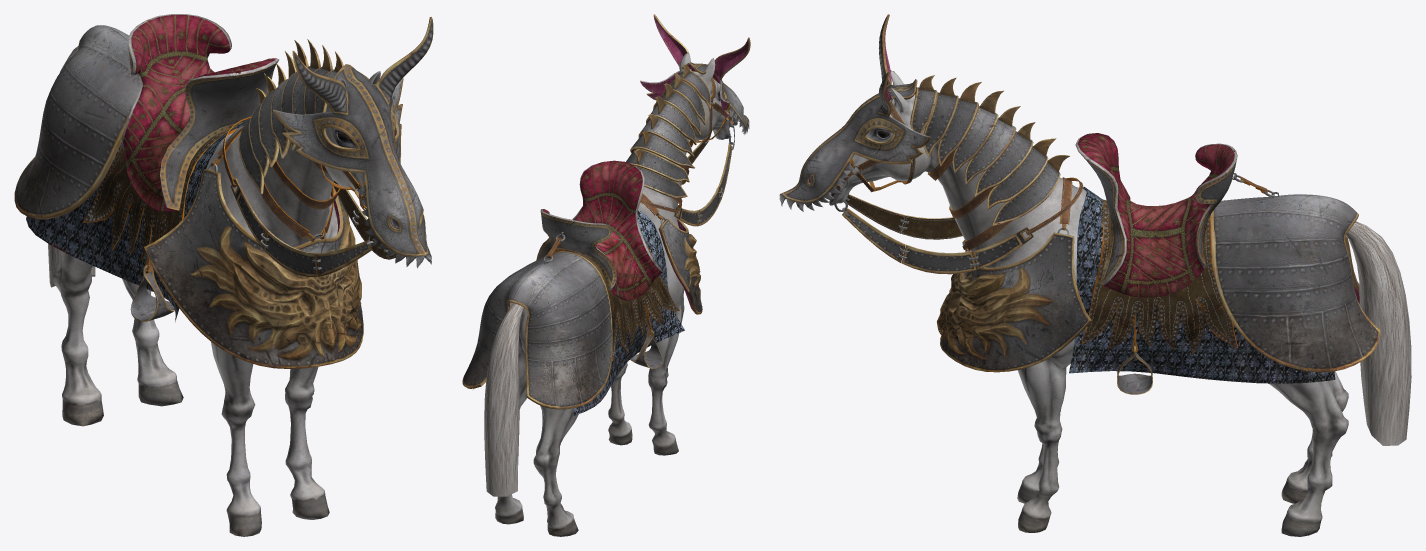
Rendered from KnightHorse.fbx.
3 renders of one model, left to right at view 1: azimuth 30°, elevation 25°; view 2: azimuth 150°, elevation 25°; view 3: azimuth 270°, elevation 25°, orthographic. The views are drawn at different scales.
Visible parts, largest first — view 1: Armor, Horse, Tail; view 2: Armor, Horse, Tail; view 3: Armor, Horse, Tail.
Part boxes in pixels (x1,y1,x2,y2): Armor: [14, 14, 433, 368]; Horse: [52, 71, 399, 536]; Tail: [48, 46, 95, 287]; Armor: [462, 14, 750, 415]; Horse: [495, 53, 737, 536]; Tail: [484, 303, 524, 496]; Armor: [779, 14, 1380, 394]; Horse: [810, 70, 1348, 536]; Tail: [1346, 221, 1411, 445].
Size of the model in its own units: 0.892 by 2.33 by 2.84.
Materials: 3 (3 with a texture image).
